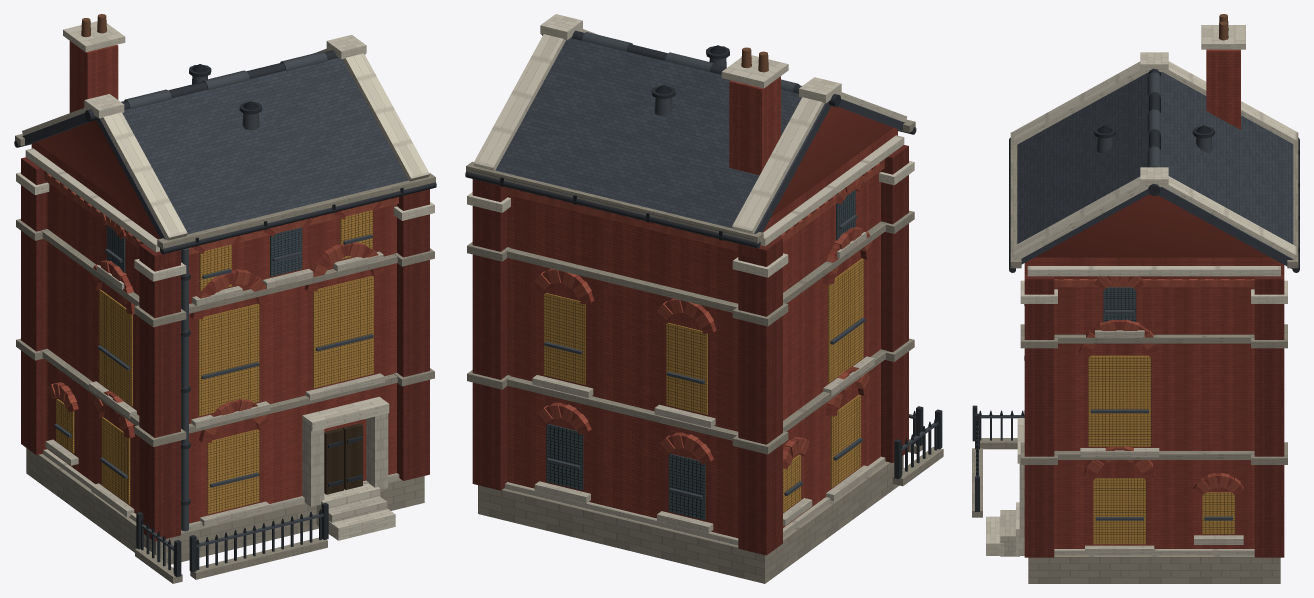
File: civic-industrial-library-built.glb
3 renders of one model, left to right at view 1: azimuth 30°, elevation 25°; view 2: azimuth 150°, elevation 25°; view 3: azimuth 270°, elevation 25°, orthographic. The views are drawn at different scales.
Size of the model in its own units: 12.97 by 20.3 by 13.25.
Materials: 31 (24 with a texture image).
